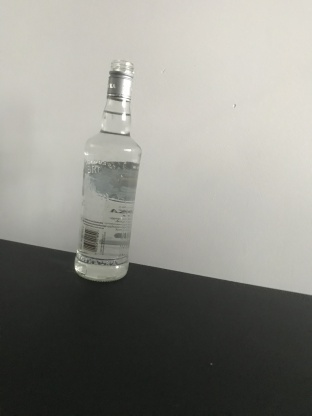nakretka: (105, 58, 135, 103)
